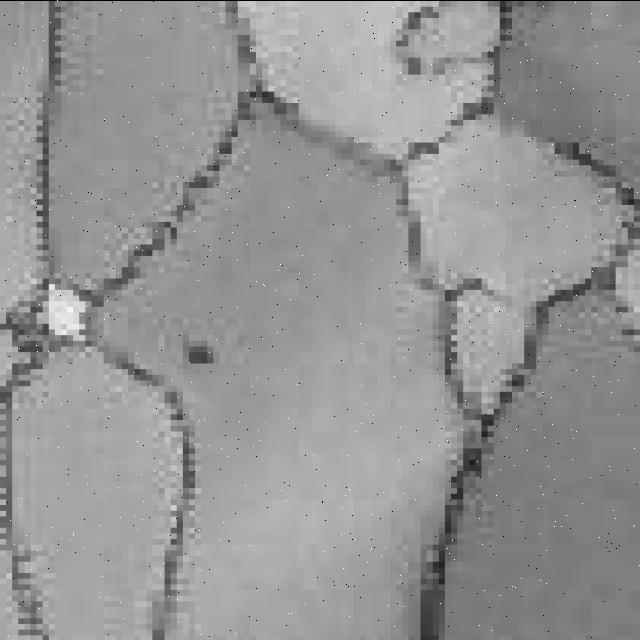good_void: (183, 340, 220, 371)
